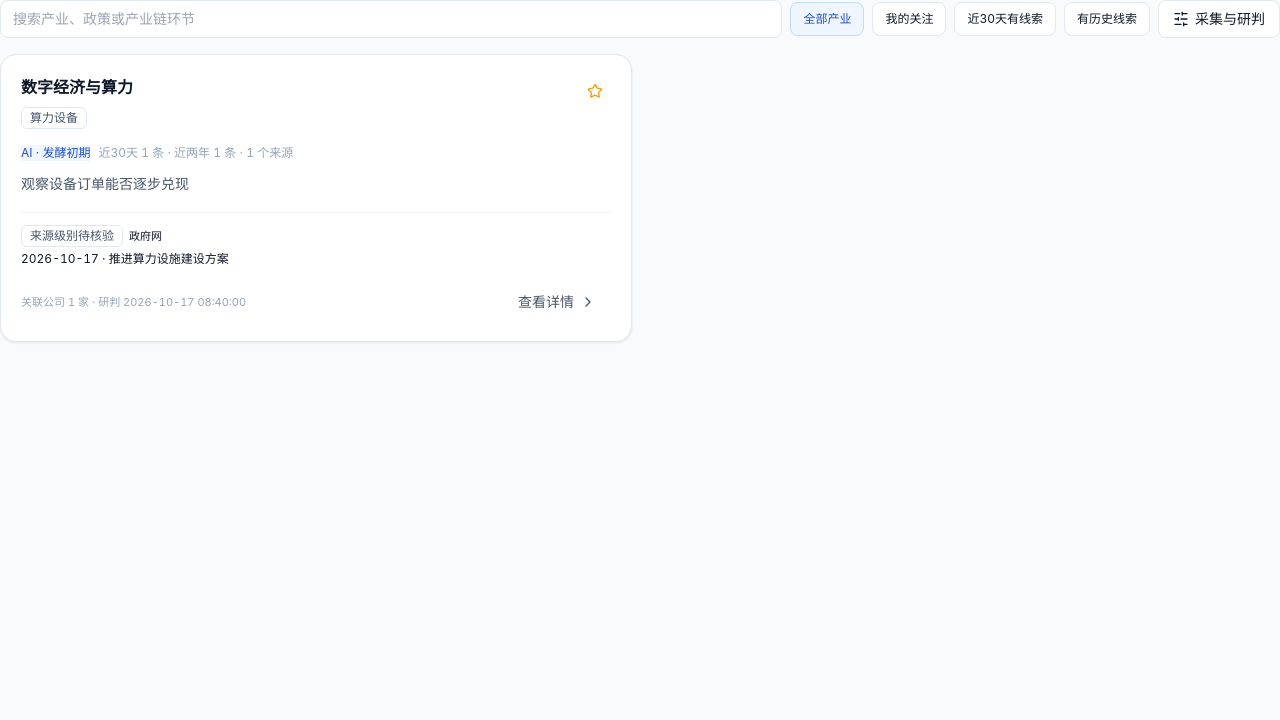
Scenario: daily policy research board › keeps the last successful analysis when a manual update fails
The image size is (1280, 720).
Step 1. Click the heading "数字经济与算力" → [77, 87], box [21,75,133,99]
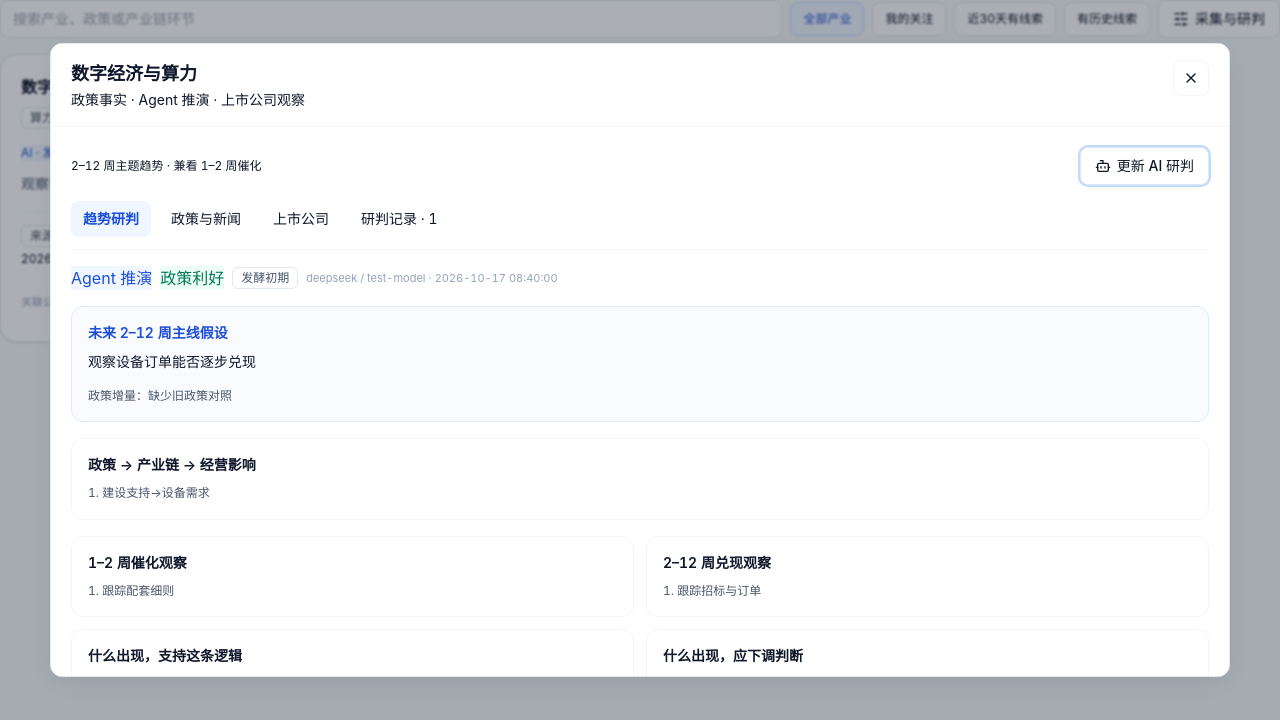
Expected: the button "更新 AI 研判" is shown
Expected: the button "更新 AI 研判" is enabled
Step 2. Click the button "更新 AI 研判" → [1144, 166], box [1080,147,1209,185]
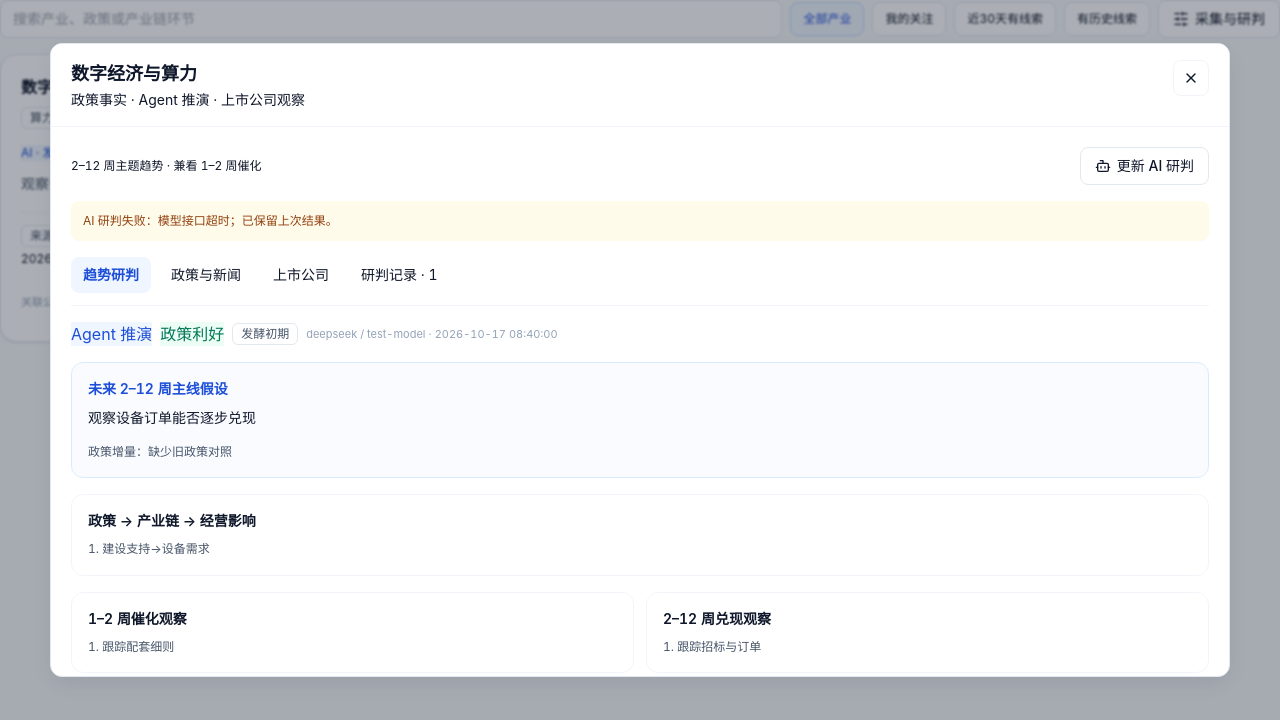
Expected: the dialog shows "观察设备订单能否逐步兑现", [88,409,256,426]
Expected: the dialog shows "已保留上次结果", [83,213,338,228]
